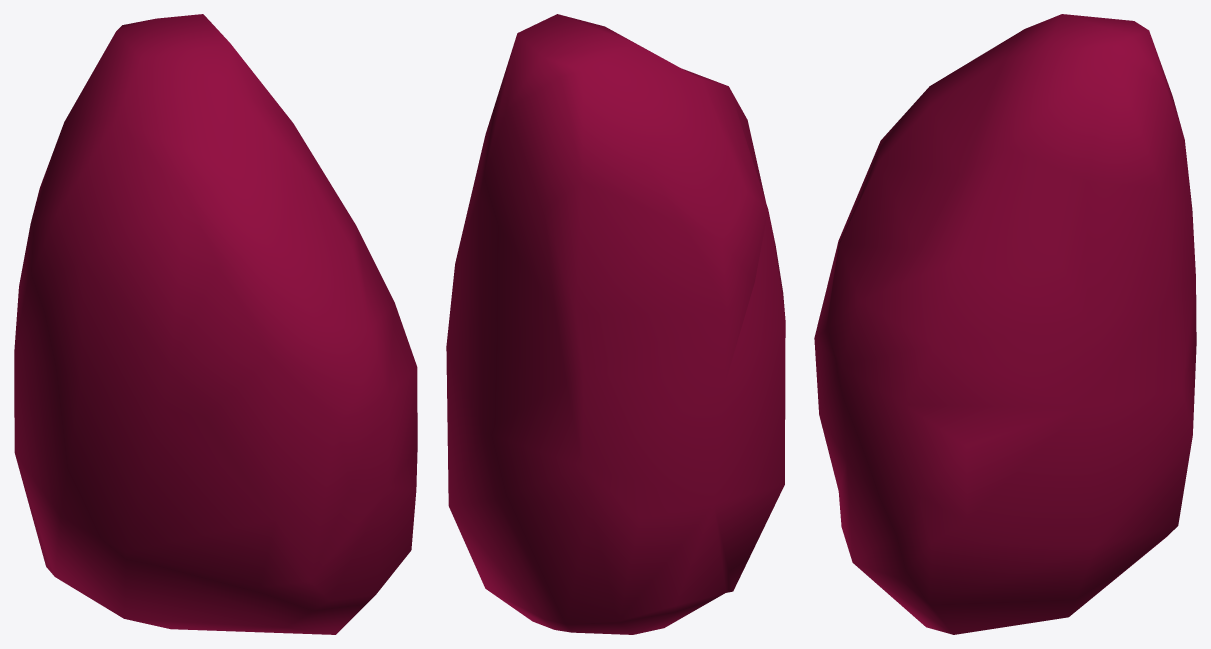
The model's file is stone_06.FBX.
The picture shows the model from 3 angles, left to right: view 1: azimuth 30°, elevation 25°; view 2: azimuth 150°, elevation 25°; view 3: azimuth 270°, elevation 25°; orthographic projection. The views are drawn at different scales.
Visible parts, largest first — view 1: stone_06; view 2: stone_06; view 3: stone_06.
Part boxes in pixels (x1,y1,x2,y2): stone_06: (14,14,417,634); stone_06: (446,14,785,634); stone_06: (814,14,1196,634).
Bounding box in the file's own units: 50.64 × 86.8 × 52.94.
